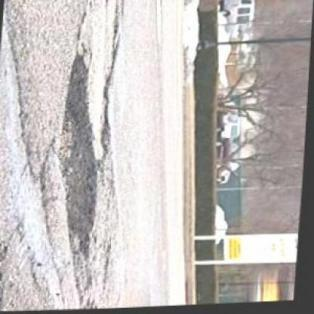Hueco: (54, 54, 106, 252)
